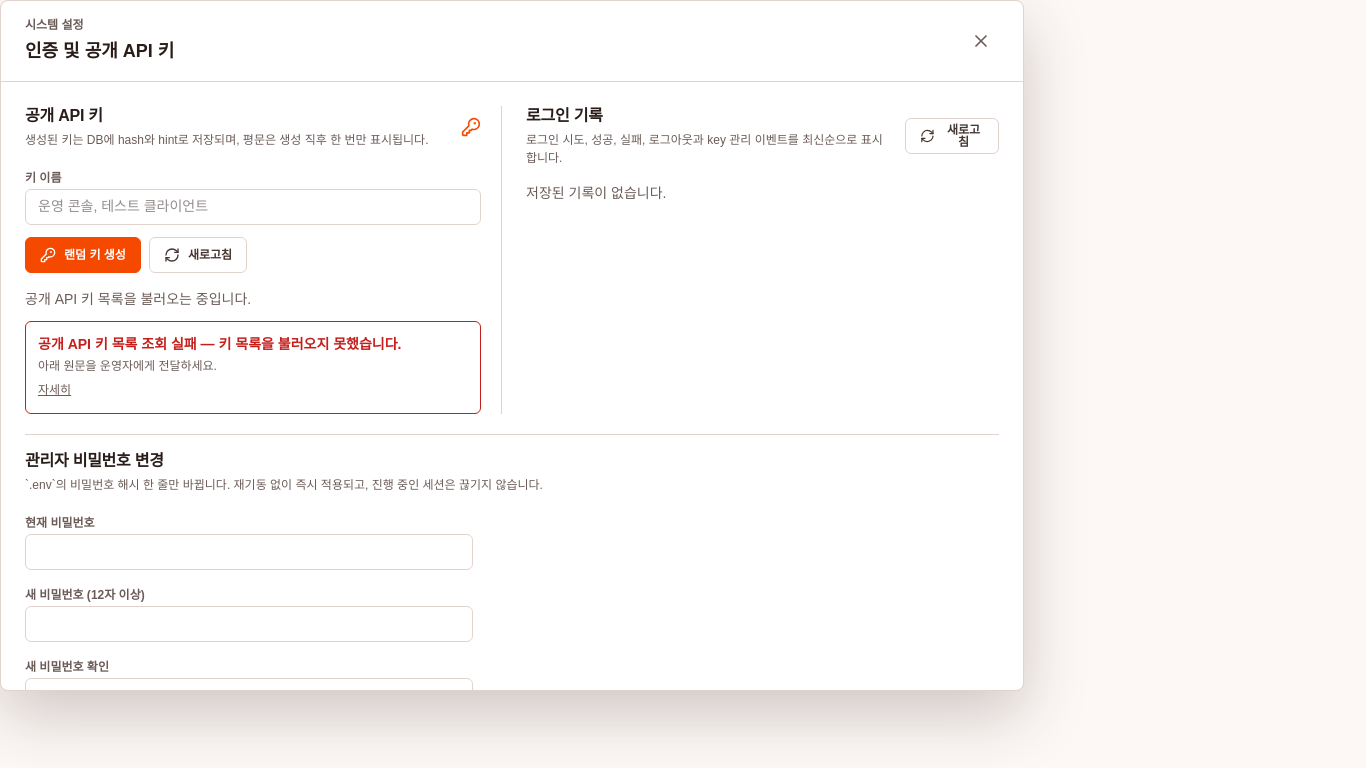
AdminSettingsPanel — 오류 표시 분기 › 공개 API 키 목록 새로고침이 성공하면 이전 실패 메시지를 지운다 (loadPublicKeys 시작 시 상태 초기화)
expect the text "공개 API 키 목록 조회 실패 — 키 목록을 불러오지 못했습니다." is shown: met, box 38,336 -> 402,352
Click the button "새로고침" below "키 이름" at (198, 255), box 149,237 -> 247,273
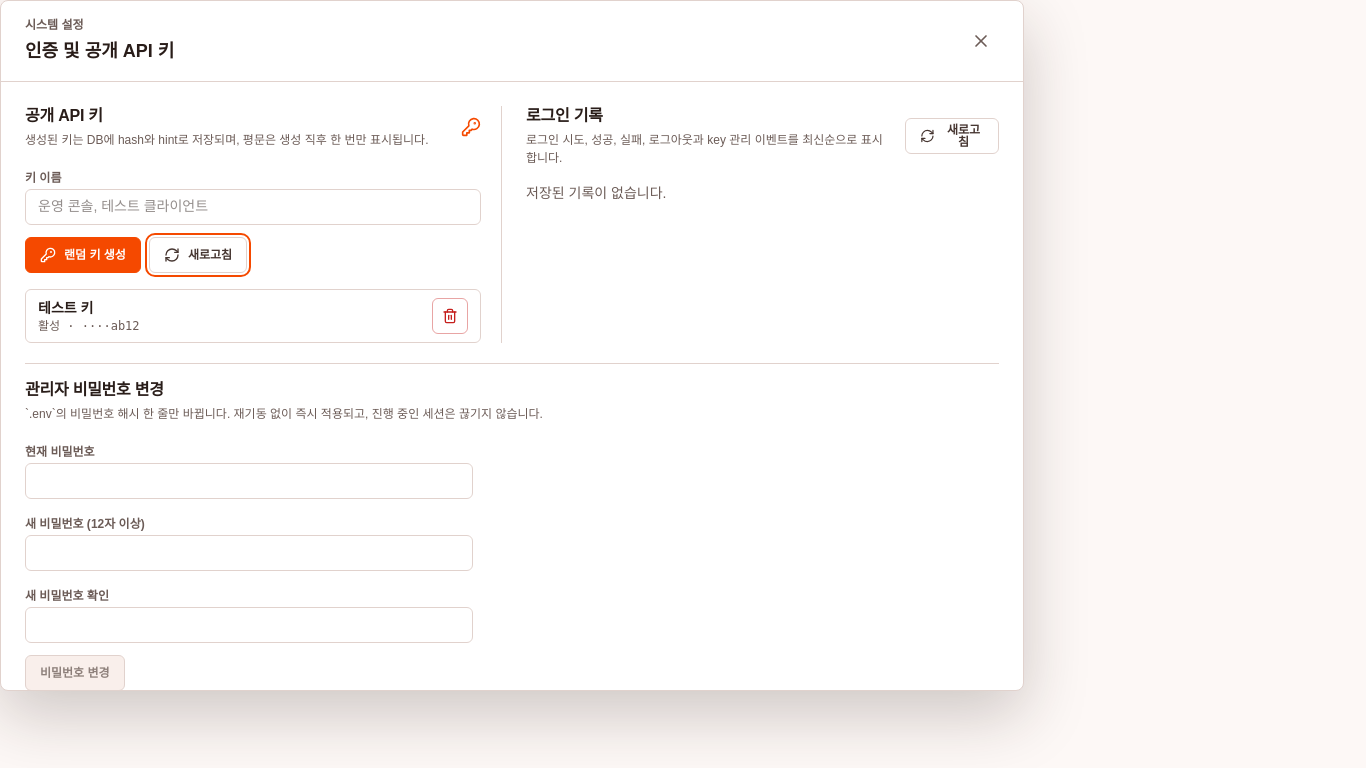
expect the text "공개 API 키 목록 조회 실패 — 키 목록을 불러오지 못했습니다." is gone: met
expect the text "테스트 키" is shown: met, box 38,300 -> 93,316
